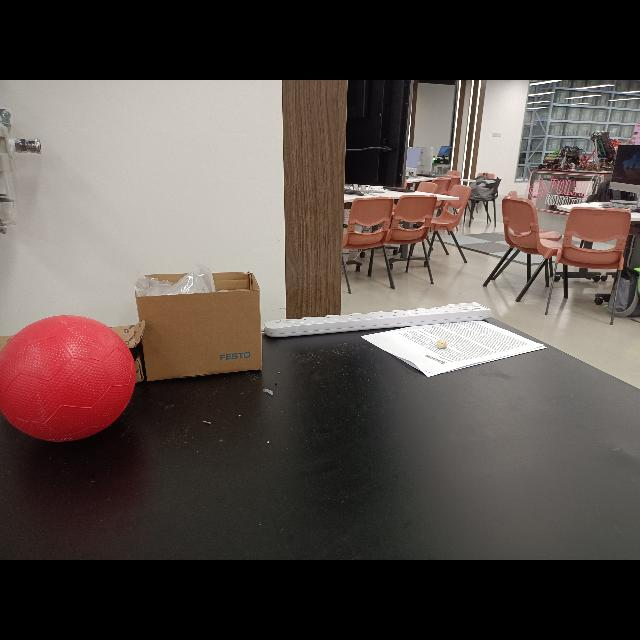R: (1, 317, 138, 445)
